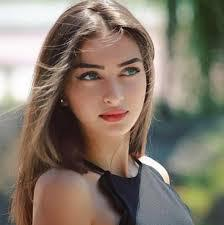face: (68, 34, 145, 134)
